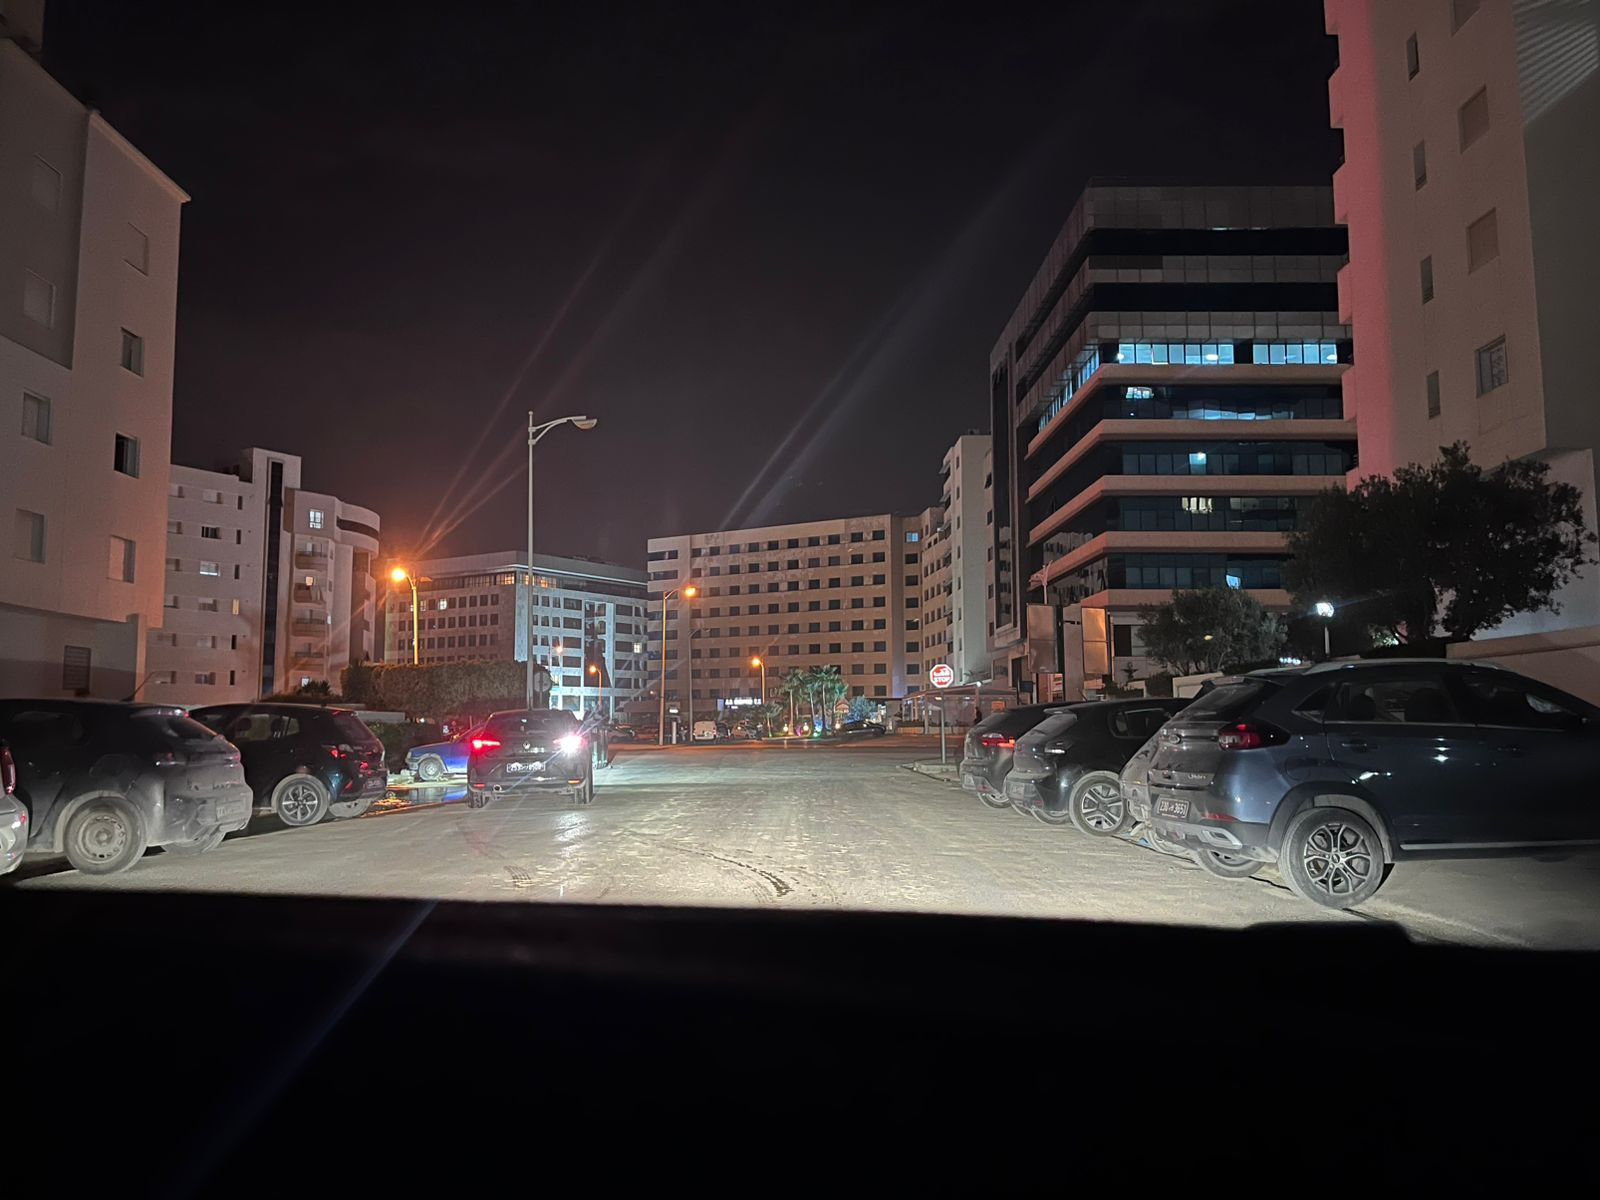Stop: (930, 663, 954, 688)
